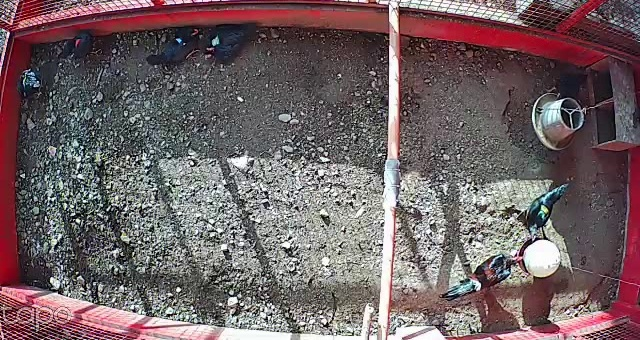Chicken: (515, 183, 569, 248), (207, 17, 259, 66), (142, 25, 205, 65), (51, 29, 109, 64), (8, 64, 58, 100), (541, 70, 592, 105)
Rooster: (434, 253, 527, 304)
Saddle_Color_Blue: (175, 37, 184, 46)
Saddle_Color_Red: (74, 38, 82, 48)
Saddle_Color_YellowGreen: (536, 203, 551, 219)
